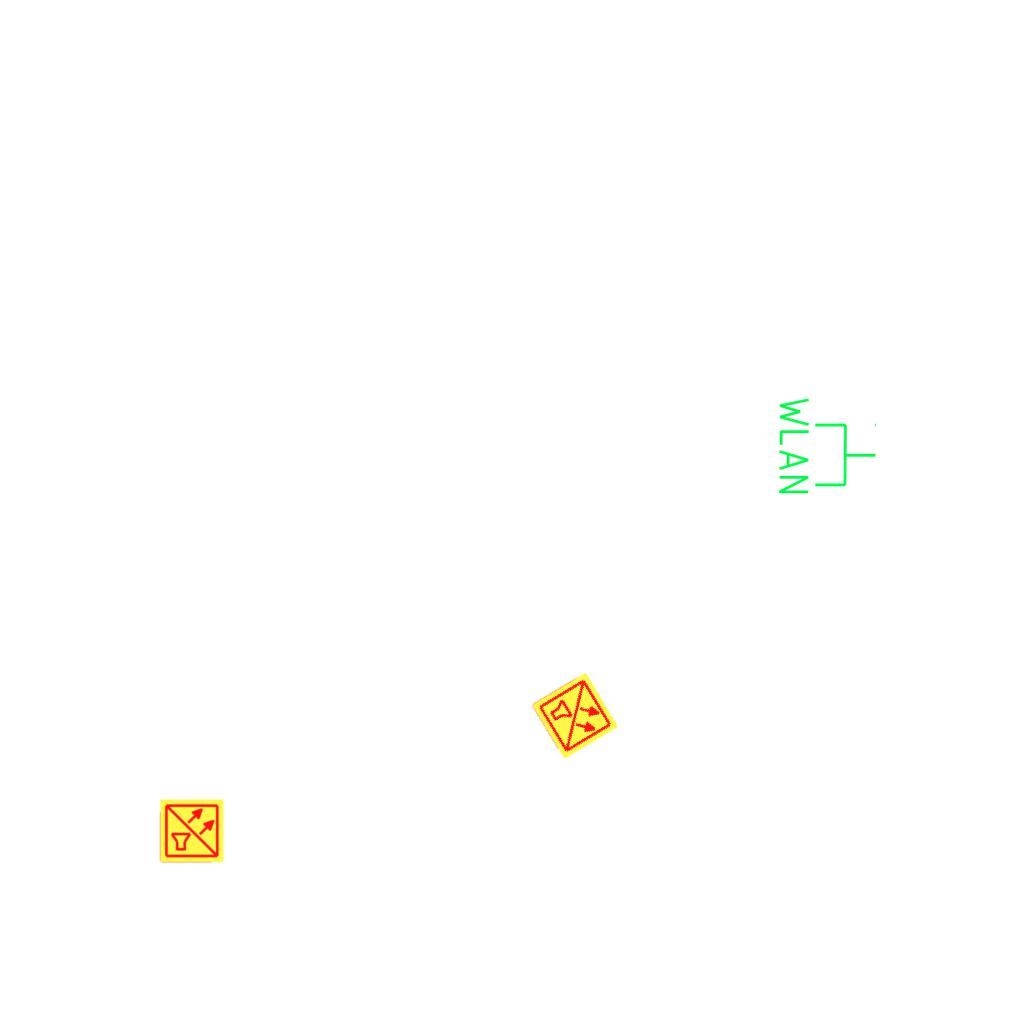OKW_Multisensormelder_(Kombination_optischer_Rauch-Kahlenmonoxid_Waerme-Melder): (529, 670, 621, 762), (159, 798, 225, 864)
WLAN: (775, 393, 879, 498)
